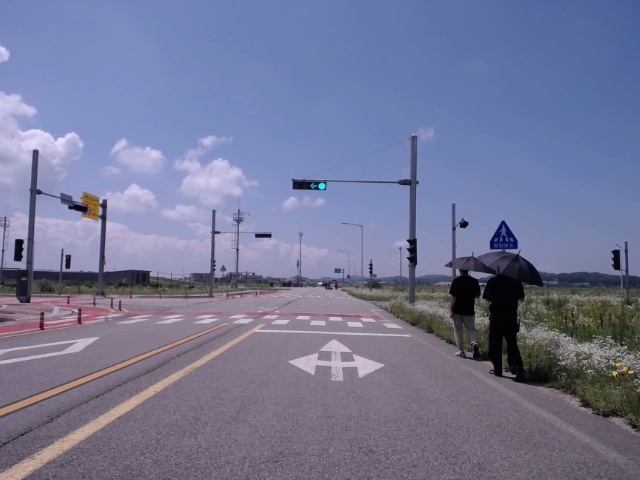all_green_4: (293, 177, 330, 190)
